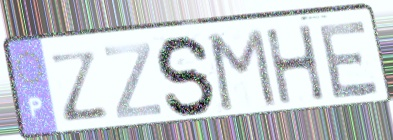E: (317, 17, 383, 102)
H: (262, 22, 328, 108)
M: (207, 26, 279, 114)
S: (154, 33, 219, 118)
Z: (101, 40, 165, 122), (46, 47, 111, 124)
